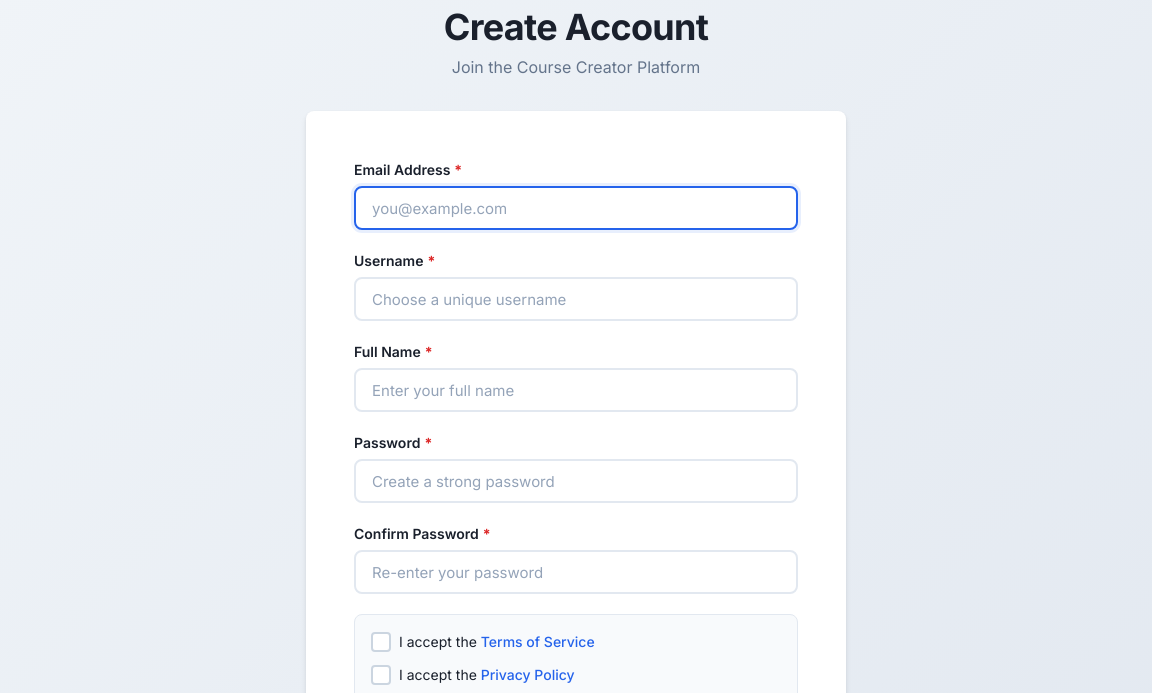
Scenario: RegistrationPage Component › Form Validation - Confirm Password › shows error when passwords do not match
Type "Password123" into the password field labelled "Password*". click: coordinates (576, 481)
box: [354,459,798,503]
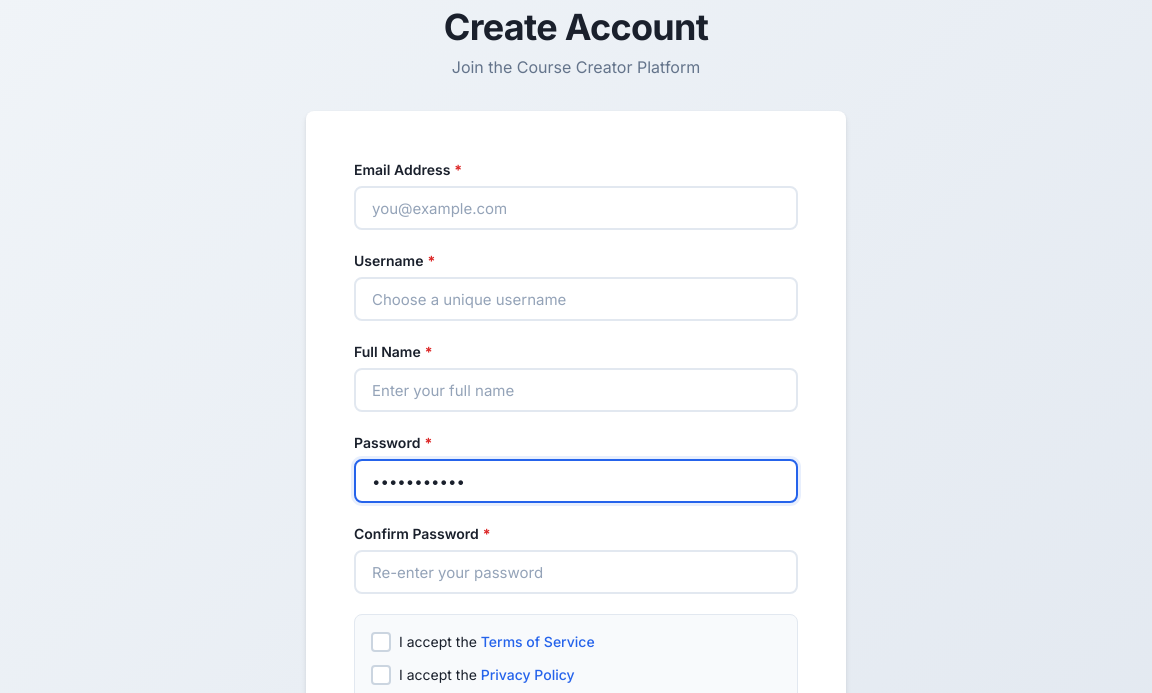
Type "Password456" into the password field labelled "Confirm Password*". click: coordinates (576, 572)
box: [354,550,798,594]
(page scrolled)
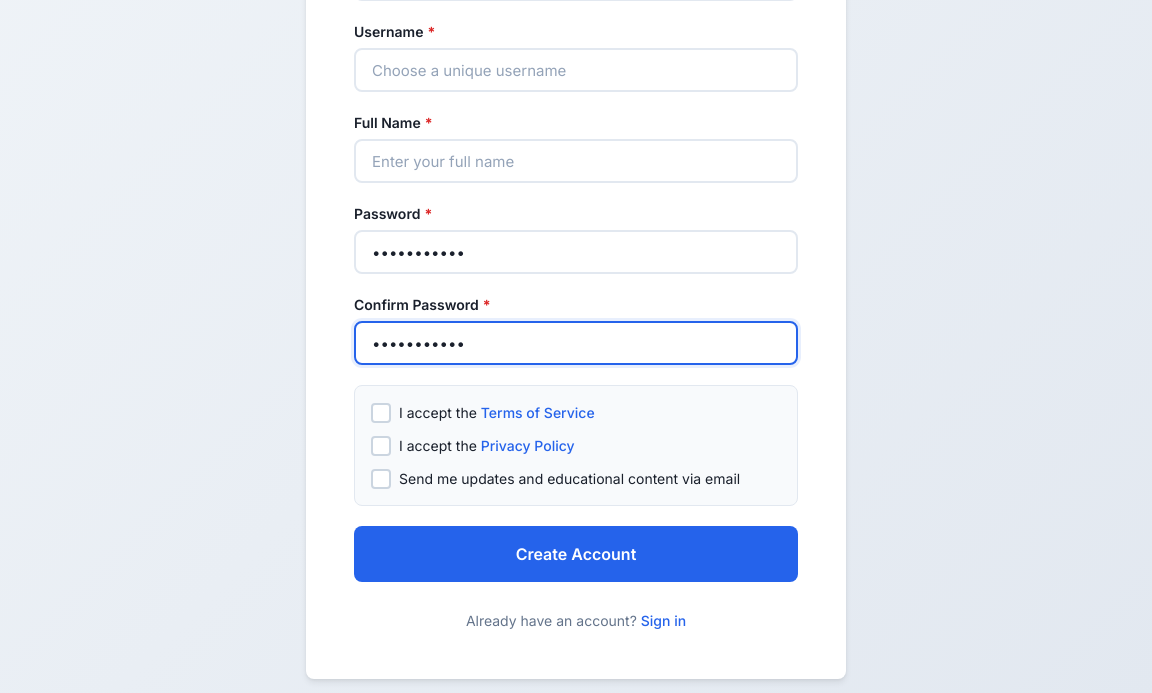
Click the button "Create Account". click: coordinates (576, 554)
box: [354,526,798,582]
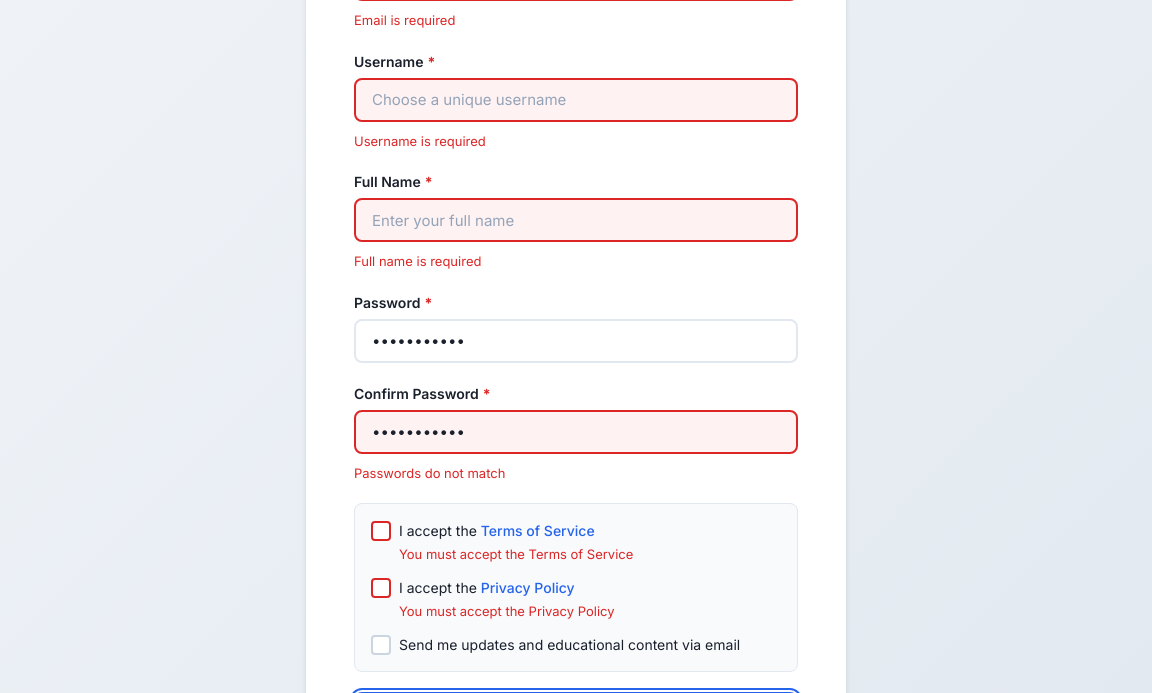
Result: the text "Passwords do not match" is shown at [354,464,505,480]
